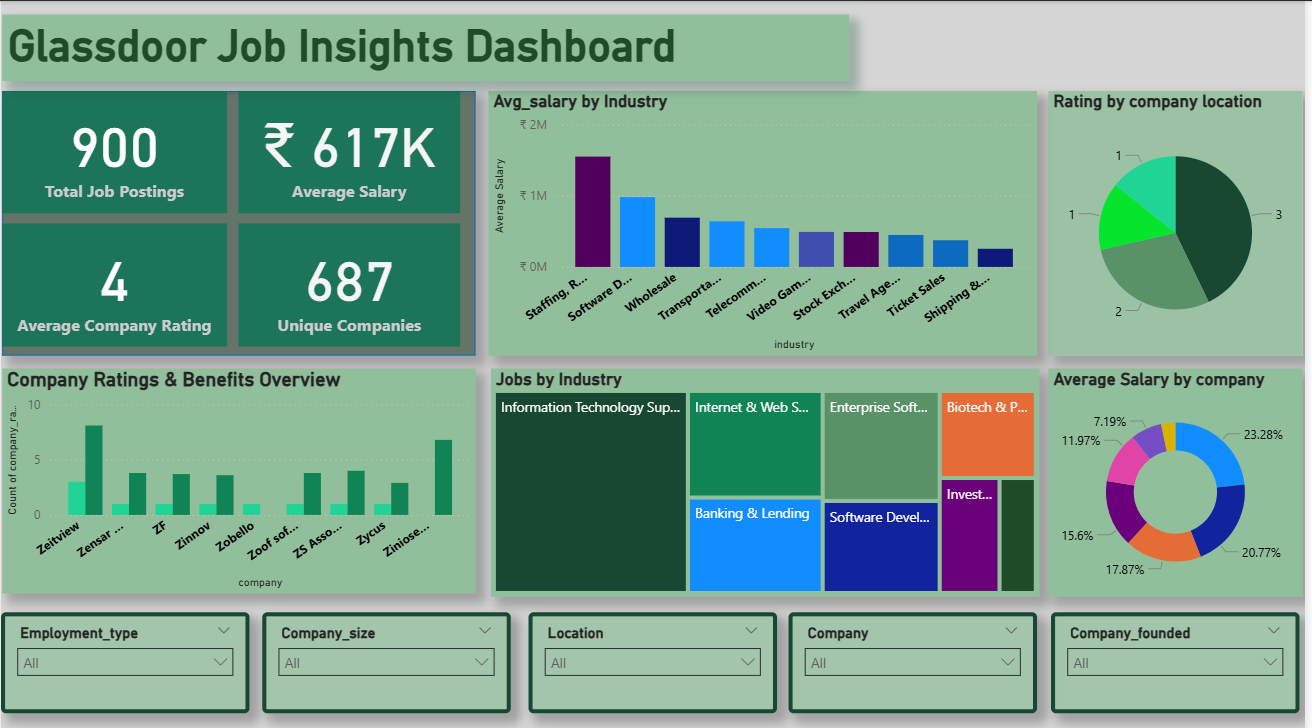

Layout of this report page (visuals, bound fields, positions):
{"tool":"powerbi","page":{"name":"Page 1","canvas":[1280,720],"ordinal":0},"visuals":[{"type":"shape","box":[1.4,88,464.6,259.7],"z":1},{"type":"card","fields":{"Values":["Glass door data science jobs - 2024.Average Salary"]},"box":[233.7,88,217.9,119.7],"z":2},{"type":"card","fields":{"Values":["Glass door data science jobs - 2024.Average Company Rating"]},"box":[1.4,217.9,220.7,121.2],"z":3},{"type":"card","fields":{"Values":["Glass door data science jobs - 2024.Unique Companies"]},"box":[233.7,217.9,217.9,121.2],"z":4},{"type":"card","fields":{"Values":["Glass door data science jobs - 2024.Total Job Postings"]},"box":[1.4,88,220.7,119.7],"z":5},{"type":"clusteredColumnChart","title":"Avg_salary by Industry","fields":{"Category":["Glass door data science jobs - 2024.industry"],"Y":["Glass door data science jobs - 2024.Average Salary"]},"box":[479,88,538.2,259.7],"z":6},{"type":"clusteredColumnChart","title":"Company Ratings & Benefits Overview","fields":{"Category":["Glass door data science jobs - 2024.company"],"Y":["CountNonNull(Glass door data science jobs - 2024.company_rating)","Sum(Glass door data science jobs - 2024.comp_and_benefits_rating)"]},"box":[1.4,360.7,464.6,220.7],"z":7},{"type":"treemap","title":"Jobs by Industry","fields":{"Group":["Glass door data science jobs - 2024.industry"],"Values":["CountNonNull(Glass door data science jobs - 2024.job_title)"]},"box":[480.4,360.7,538.2,223.6],"z":8},{"type":"pieChart","title":"Rating by company location","fields":{"Y":["CountNonNull(Glass door data science jobs - 2024.company_rating)"],"Category":["Glass door data science jobs - 2024.location"]},"box":[1028.7,88,249.6,259.7],"z":9},{"type":"donutChart","fields":{"Y":["Glass door data science jobs - 2024.Average Salary"],"Category":["Glass door data science jobs - 2024.company"]},"box":[1028.7,360.7,249.6,223.6],"z":10},{"type":"slicer","fields":{"Values":["Glass door data science jobs - 2024.employment_type"]},"box":[0,600.2,243.8,99.6],"z":11},{"type":"slicer","fields":{"Values":["Glass door data science jobs - 2024.company_size"]},"box":[256.8,600.2,243.8,99.6],"z":12},{"type":"slicer","fields":{"Values":["Glass door data science jobs - 2024.location"]},"box":[518,600.2,243.8,99.6],"z":13},{"type":"slicer","fields":{"Values":["Glass door data science jobs - 2024.company"]},"box":[773.3,600.2,243.8,99.6],"z":14},{"type":"slicer","fields":{"Values":["Glass door data science jobs - 2024.company_founded"]},"box":[1030.1,600.2,243.8,99.6],"z":15},{"type":"textbox","box":[1.4,13,831,64.9],"z":16}]}

Visuals, with their boxes in screenshot pixels (x1, y1, x2, y2), scaled from the page's 1280x720 canvas onto the 1312x728 screenshot:
shape: [1, 89, 478, 352]
card - Glass door data science jobs - 2024.Average Salary: [240, 89, 463, 210]
card - Glass door data science jobs - 2024.Average Company Rating: [1, 220, 228, 343]
card - Glass door data science jobs - 2024.Unique Companies: [240, 220, 463, 343]
card - Glass door data science jobs - 2024.Total Job Postings: [1, 89, 228, 210]
"Avg_salary by Industry" clusteredColumnChart: [491, 89, 1043, 352]
"Company Ratings & Benefits Overview" clusteredColumnChart: [1, 365, 478, 588]
"Jobs by Industry" treemap: [492, 365, 1044, 591]
"Rating by company location" pieChart: [1054, 89, 1310, 352]
donutChart - Glass door data science jobs - 2024.Average Salary x Glass door data science jobs - 2024.company: [1054, 365, 1310, 591]
slicer - Glass door data science jobs - 2024.employment_type: [0, 607, 250, 708]
slicer - Glass door data science jobs - 2024.company_size: [263, 607, 513, 708]
slicer - Glass door data science jobs - 2024.location: [531, 607, 781, 708]
slicer - Glass door data science jobs - 2024.company: [793, 607, 1043, 708]
slicer - Glass door data science jobs - 2024.company_founded: [1056, 607, 1306, 708]
textbox: [1, 13, 853, 79]
